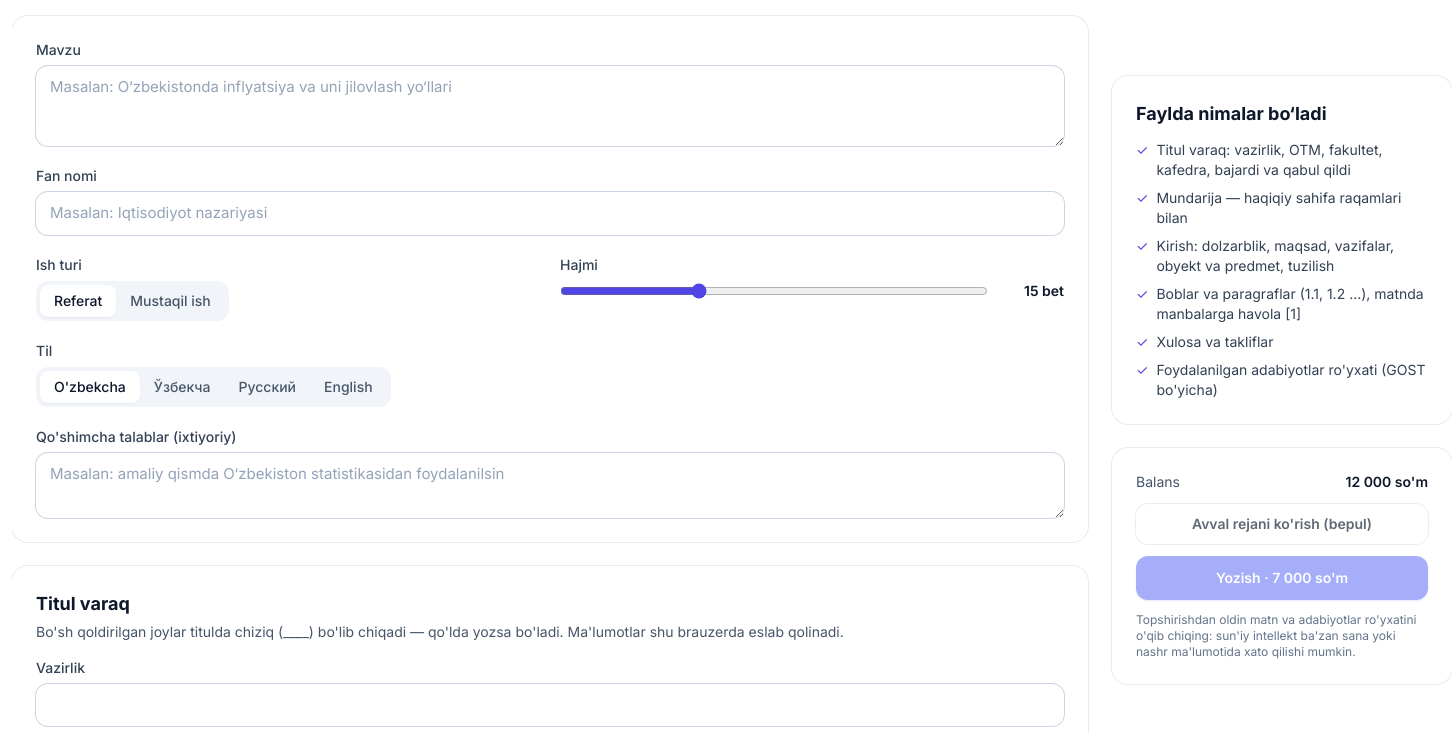
Scenario: Paper › the plan is made, edited and sent with the order
Type "Inflyatsiya" into the text box with placeholder "inflyatsiya va uni" at (550, 106), box [36,66,1064,146]
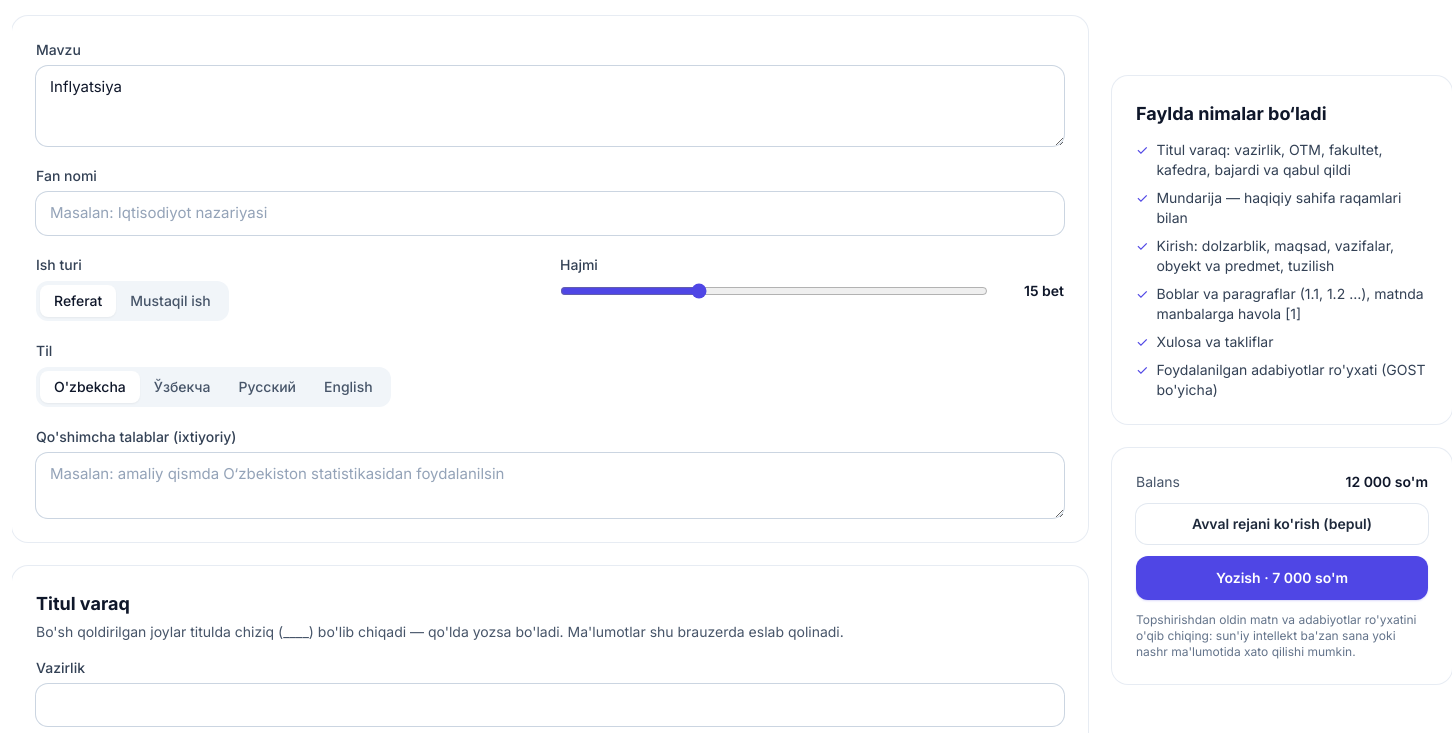
Click the button "Avval rejani ko'rish (bepul)" at (1282, 524), box [1136,504,1428,544]
(page scrolled)
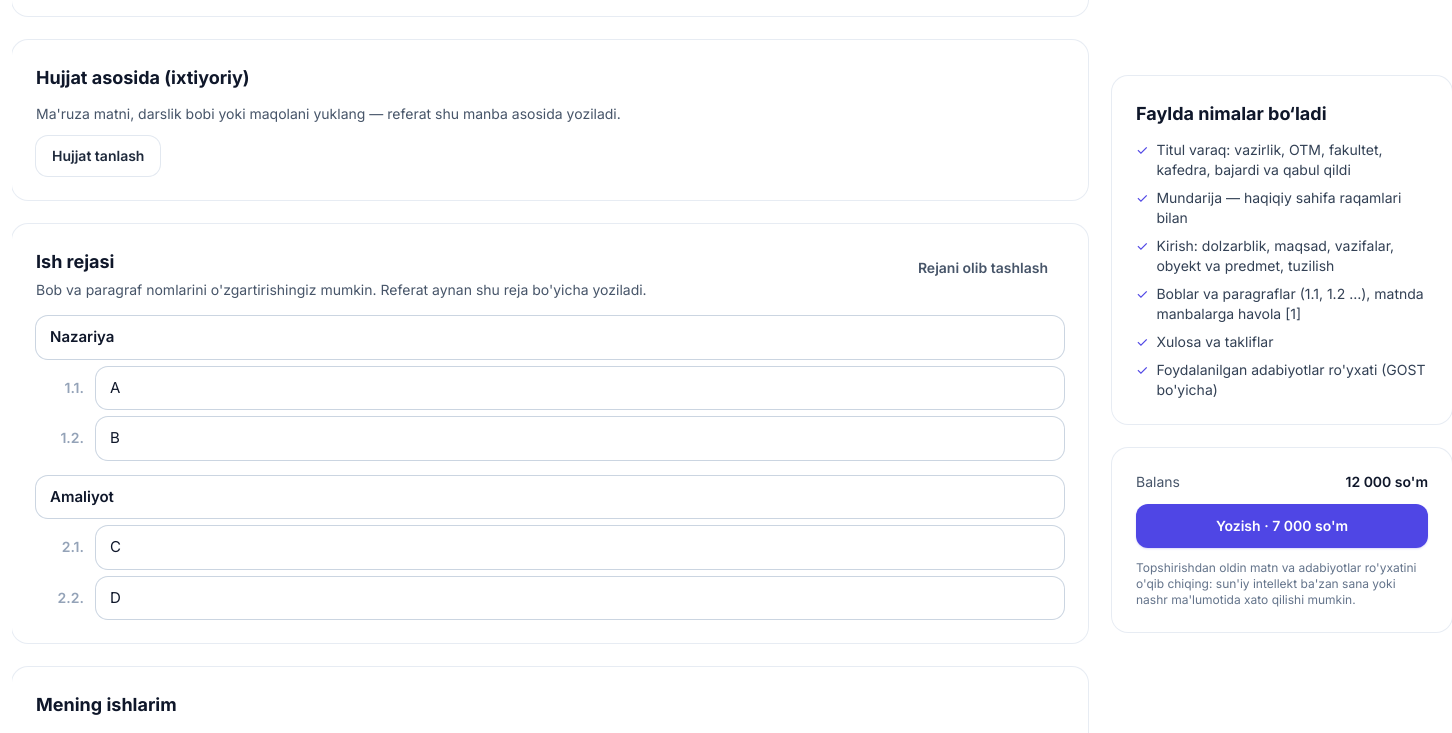
Replace the text in the field showing "Nazariya" with "Nazariy asoslar" at (550, 337), box [36,316,1064,358]
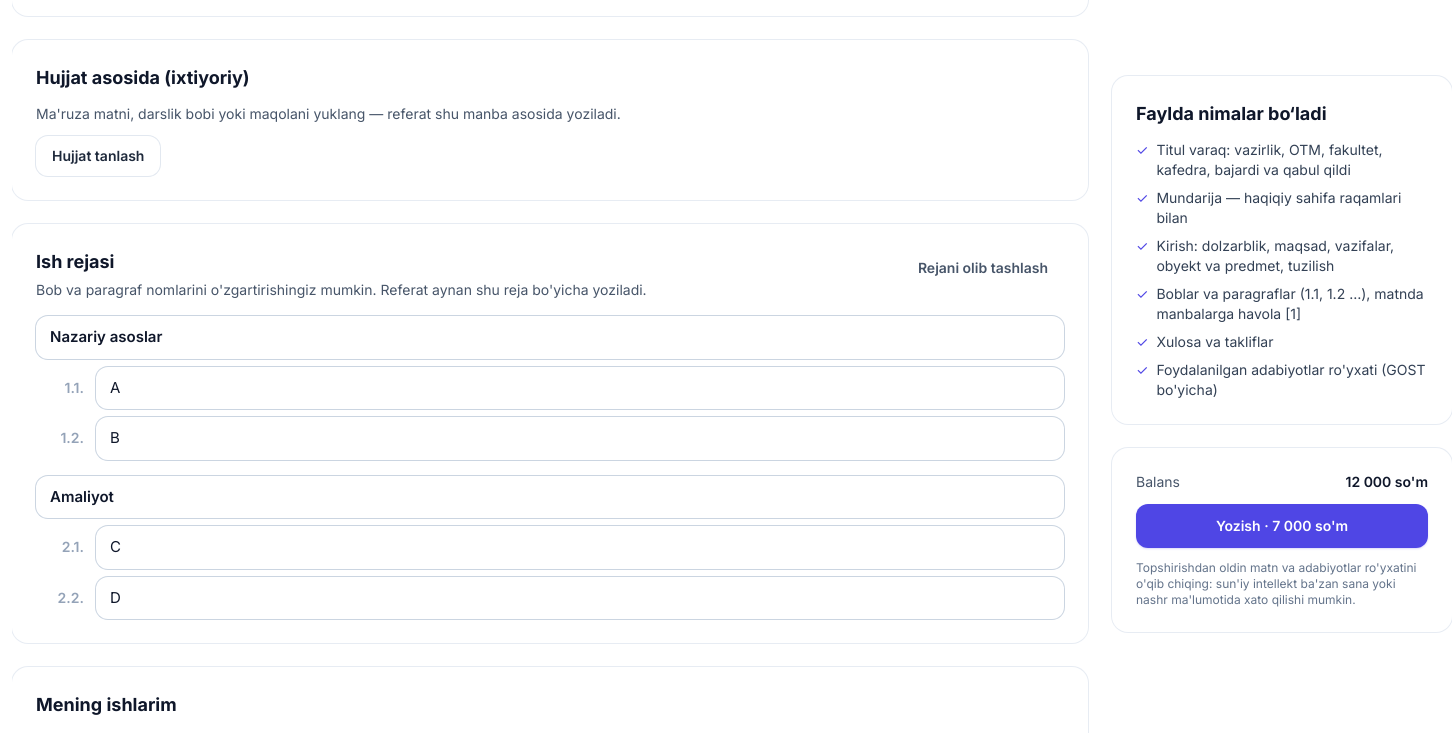
Click the button "Yozish · 7 000 so'm" at (1282, 526), box [1136,504,1428,548]
(page scrolled)
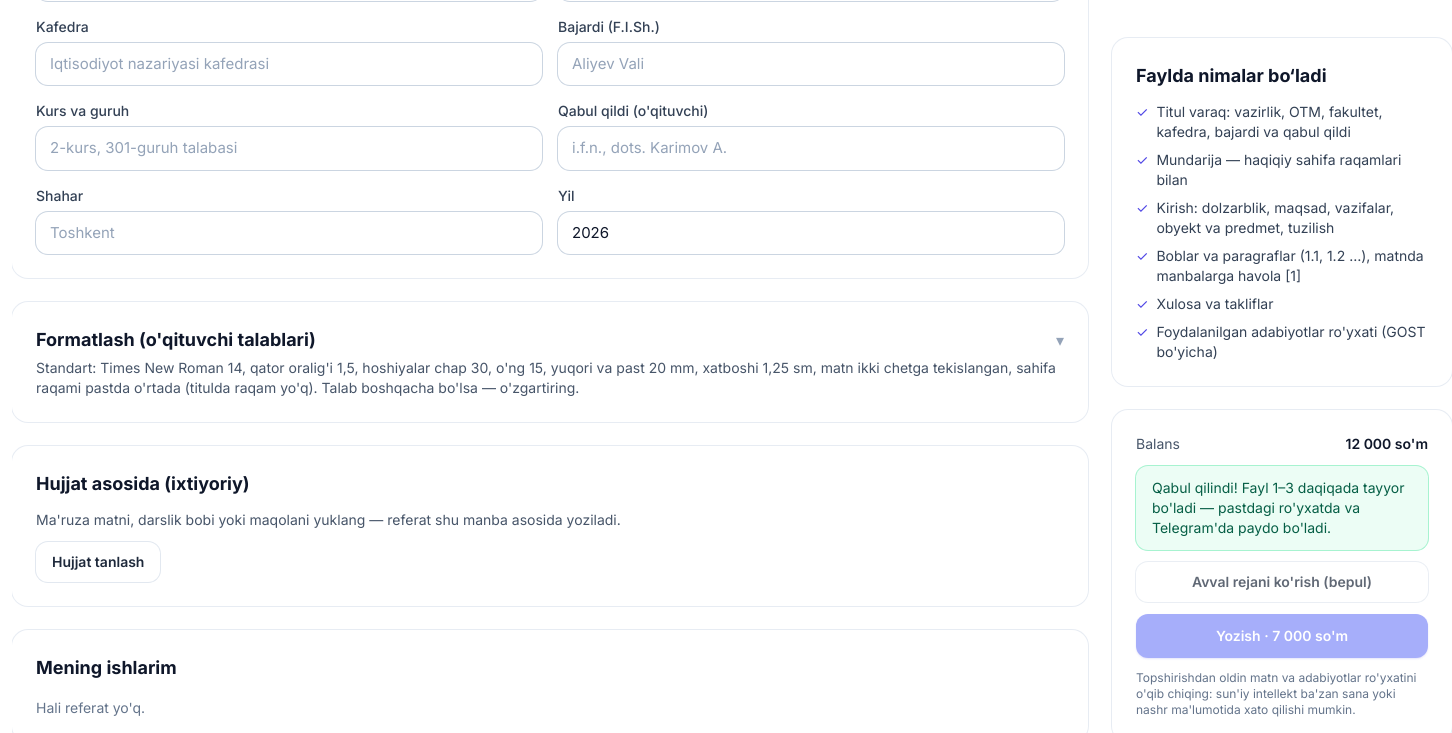
Check: the text "Qabul qilindi" is shown, box [1152,479,1404,536]
